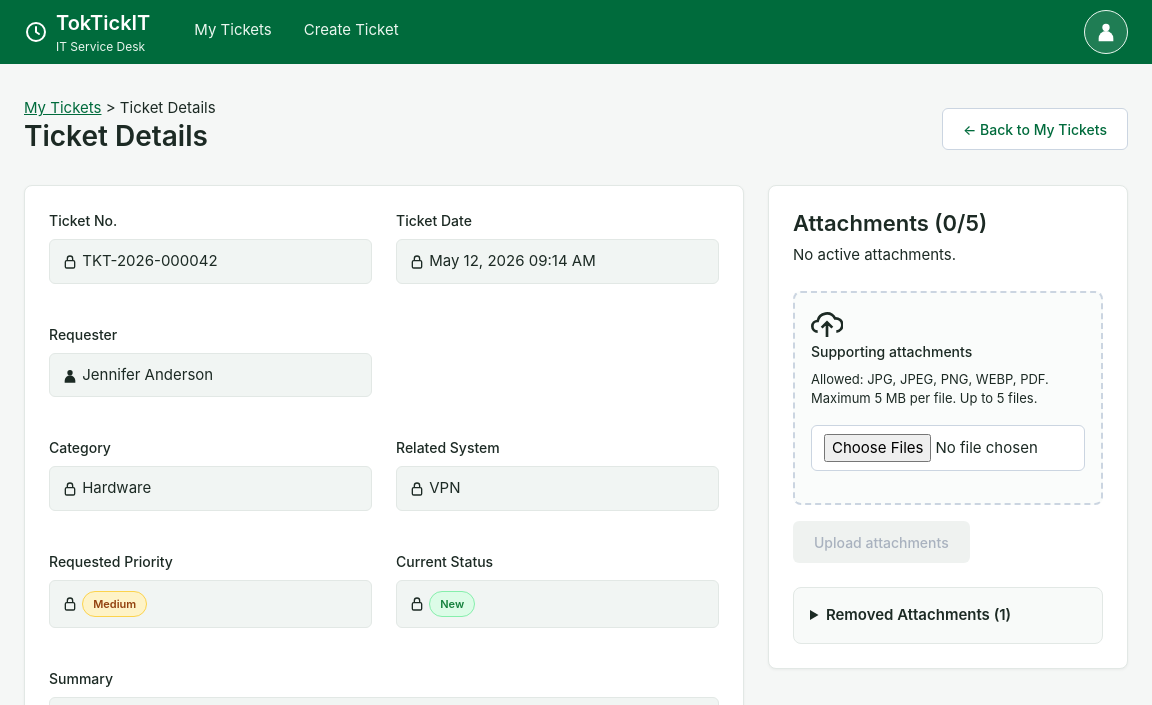
Test: renders removed metadata without operational attachment UI
Step 1. Click the heading "Removed Attachments (1)" → (919, 615), box [826,606,1011,624]
(page scrolled)
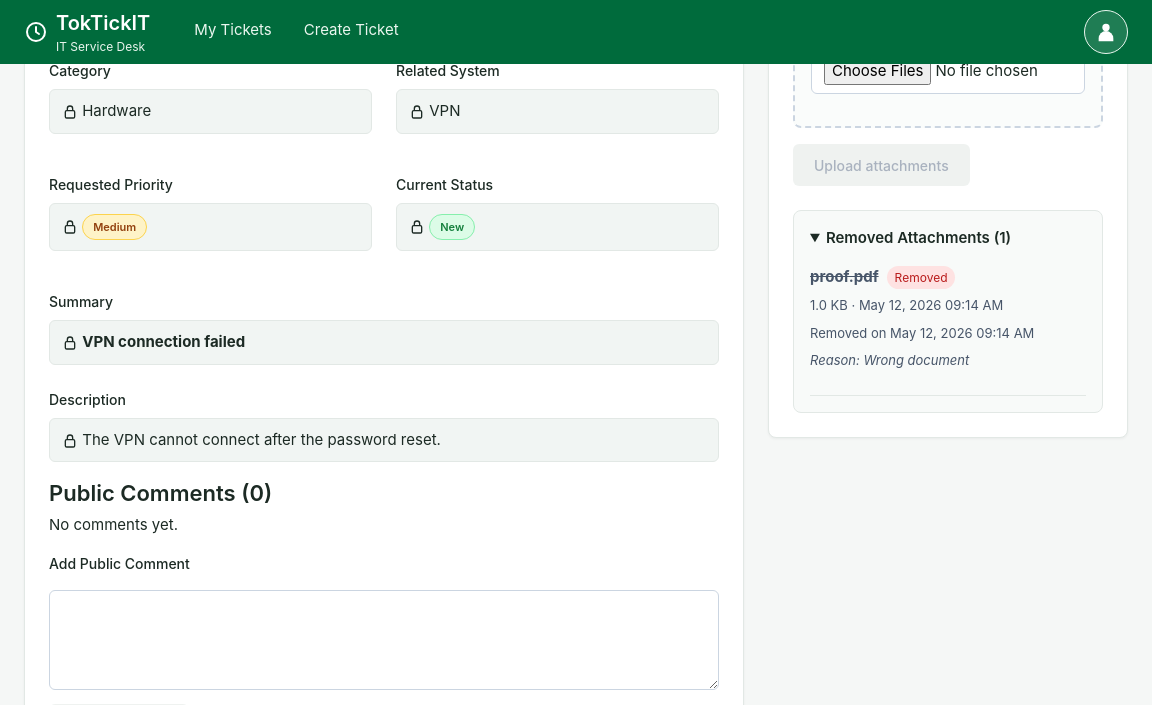
Expected: the text "proof.pdf" is shown, [810,267,879,286]
Expected: the text "Reason: Wrong document" is shown, [810,352,969,368]
